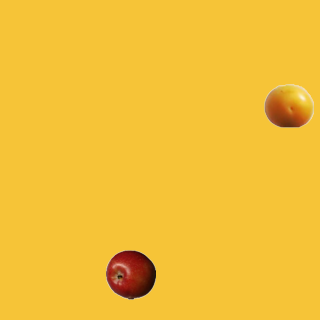Apple Braeburn: (105, 249, 155, 299)
Cherry Wax Yellow: (263, 80, 313, 130)
